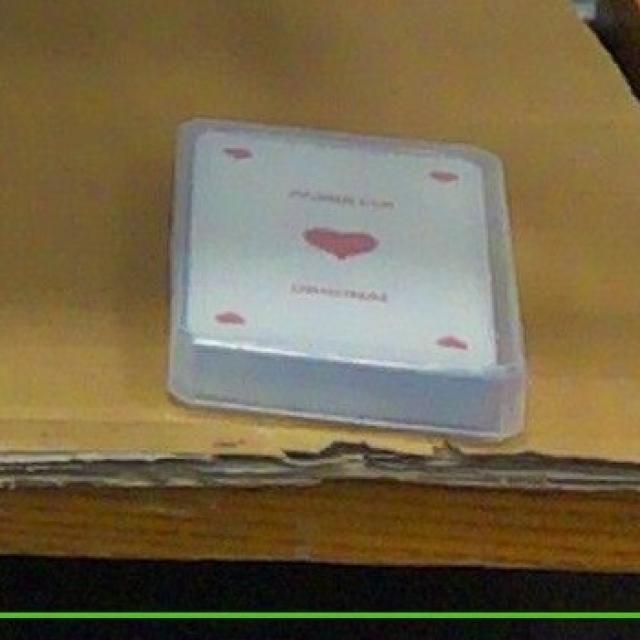Jasskarte: (166, 121, 523, 439)
